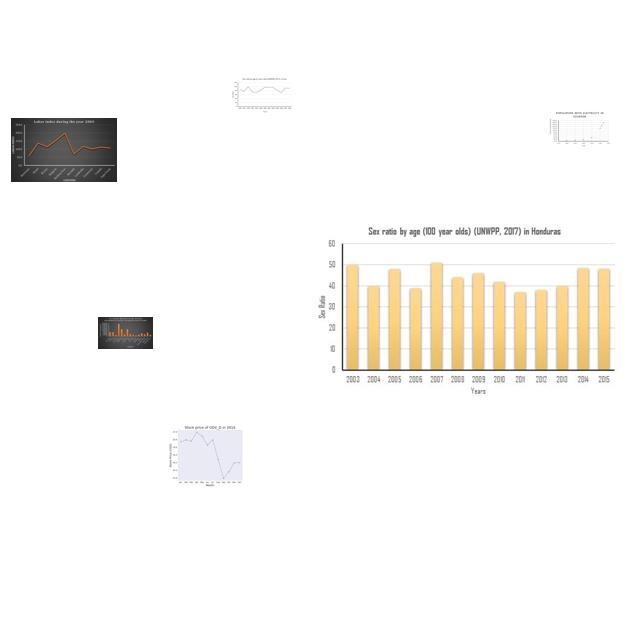Graph: (314, 222, 619, 398), (11, 118, 117, 182), (165, 422, 253, 488), (548, 110, 612, 149), (231, 77, 293, 113), (98, 317, 153, 349)
